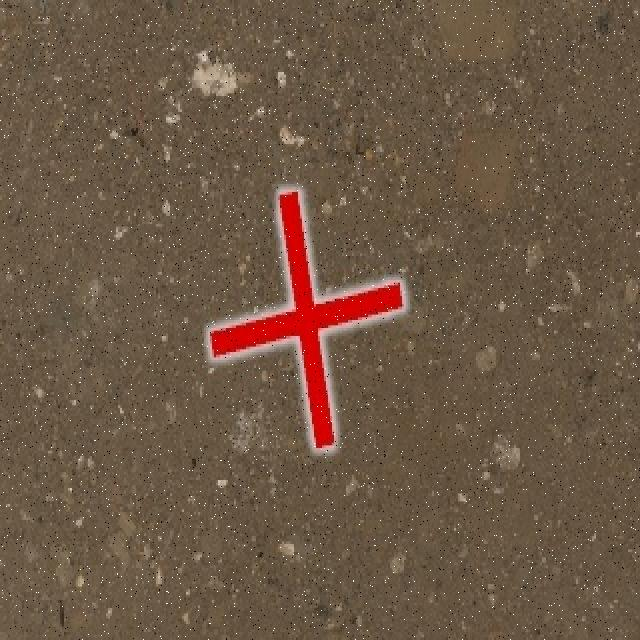x_marker: (209, 190, 403, 447)
